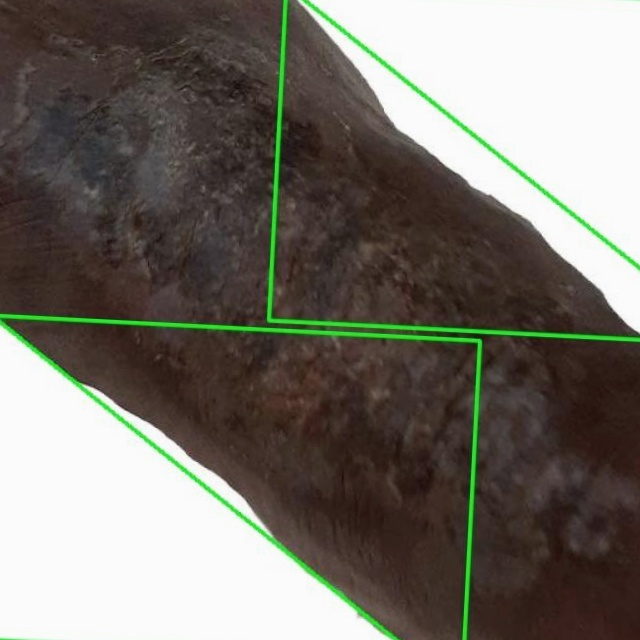Contact Dermatitis: (0, 0, 639, 639), (0, 317, 481, 639), (268, 0, 639, 339)
